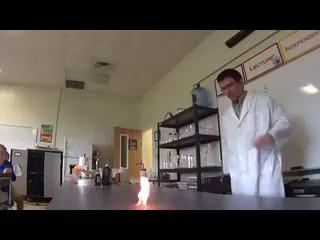Fire: (138, 172, 151, 205)
